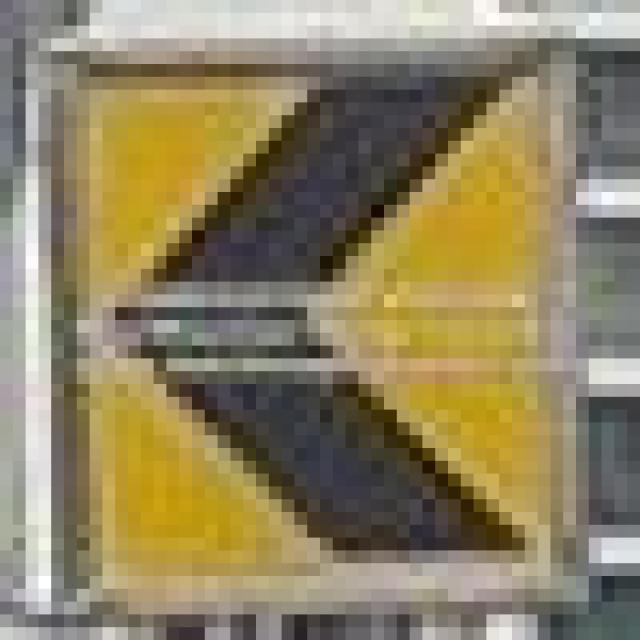DIRECTION: (64, 57, 542, 596)
